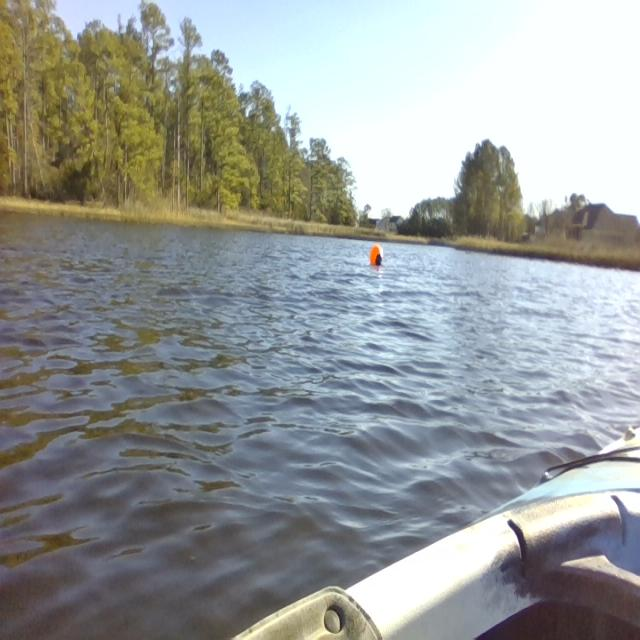Buoy: (368, 238, 387, 273)
